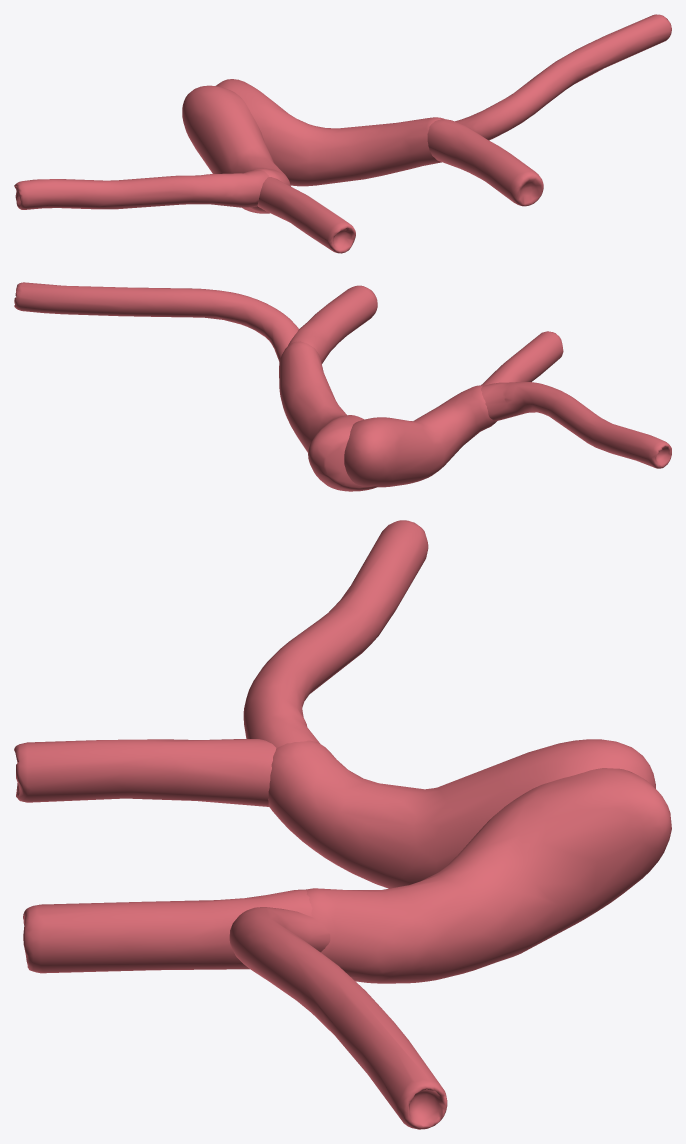
The model's file is neck__vascular.7c5251bca1.glb.
3 renders of one model, top to bottom at view 1: azimuth 30°, elevation 25°; view 2: azimuth 150°, elevation 25°; view 3: azimuth 270°, elevation 25°, orthographic. The views are drawn at different scales.
Parts seen in each view (by area): view 1: FMA4761, FMA4755, FMA4763, FMA4751, FMA4762, FMA4754; view 2: FMA4751, FMA4763, FMA4761, FMA4755, FMA4762, FMA4754; view 3: FMA4761, FMA4751, FMA4763, FMA4762, FMA4754, FMA4755.
Boxes of the visible parts, x1,y1,x2,y2 form: FMA4761: (216,79,444,186); FMA4755: (14,170,269,209); FMA4763: (455,14,671,140); FMA4751: (182,85,290,213); FMA4762: (427,119,543,206); FMA4754: (257,177,355,253); FMA4751: (344,385,496,487); FMA4763: (14,282,298,361); FMA4761: (279,341,378,491); FMA4755: (481,382,671,468); FMA4762: (288,285,377,363); FMA4754: (481,331,563,385); FMA4761: (305,768,671,983); FMA4751: (268,739,655,888); FMA4763: (229,907,447,1129); FMA4762: (23,889,312,973); FMA4754: (14,739,276,806); FMA4755: (243,520,428,747).
Size of the model in its own units: 181 by 27.09 by 85.91.
